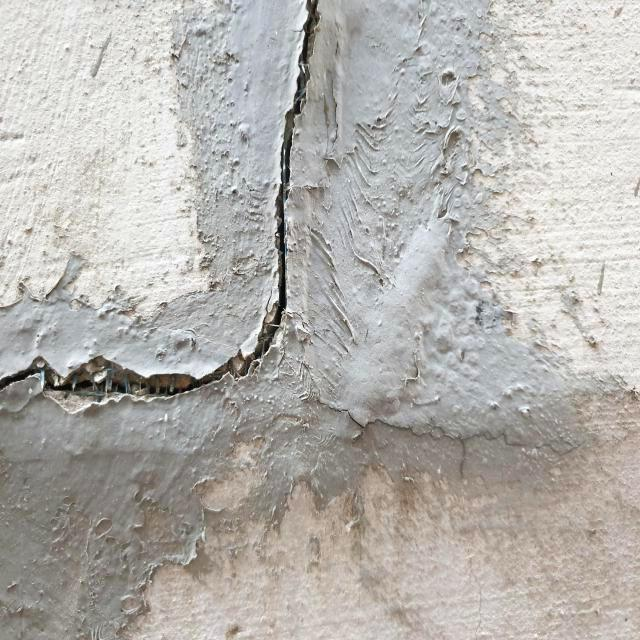SurfaceCrack: (4, 2, 366, 451)
